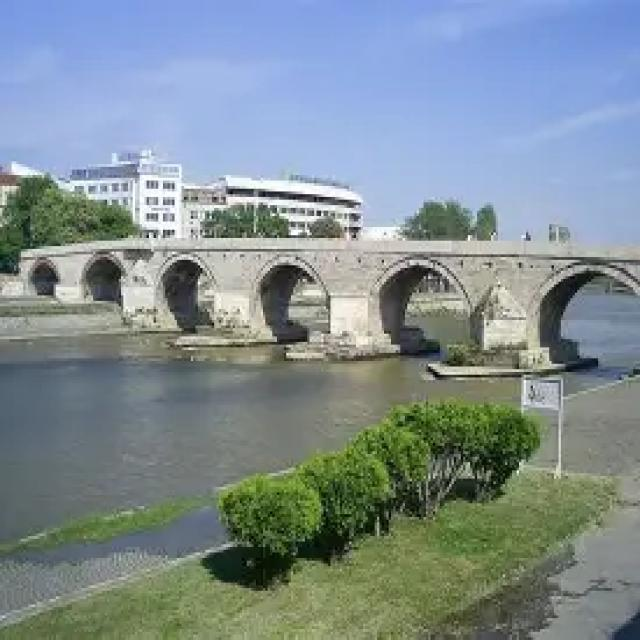Stone Bridge: (0, 198, 640, 398)
